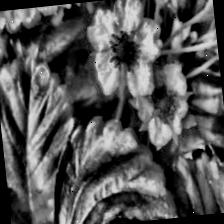Blossom Blight: (103, 28, 143, 75), (145, 80, 183, 125)
